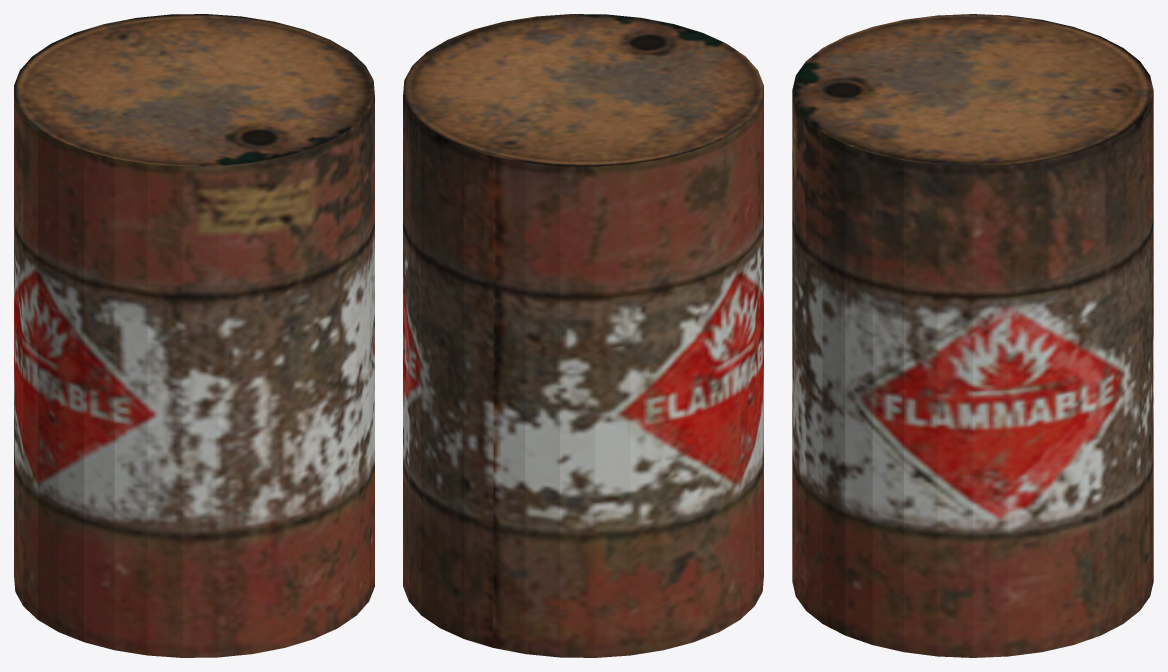
The model's file is barrel.fbx.
3 views of the same model, side by side, from view 1: azimuth 30°, elevation 25°; view 2: azimuth 150°, elevation 25°; view 3: azimuth 270°, elevation 25° (orthographic).
Visible parts, largest first — view 1: Barrel; view 2: Barrel; view 3: Barrel.
Boxes of the visible parts, left/top/right/bottom form: Barrel: left=14, top=14, right=374, bottom=657; Barrel: left=403, top=14, right=763, bottom=657; Barrel: left=792, top=14, right=1153, bottom=657.
Size of the model in its own units: 50 by 75 by 50.
Materials: 1 (1 with a texture image).
